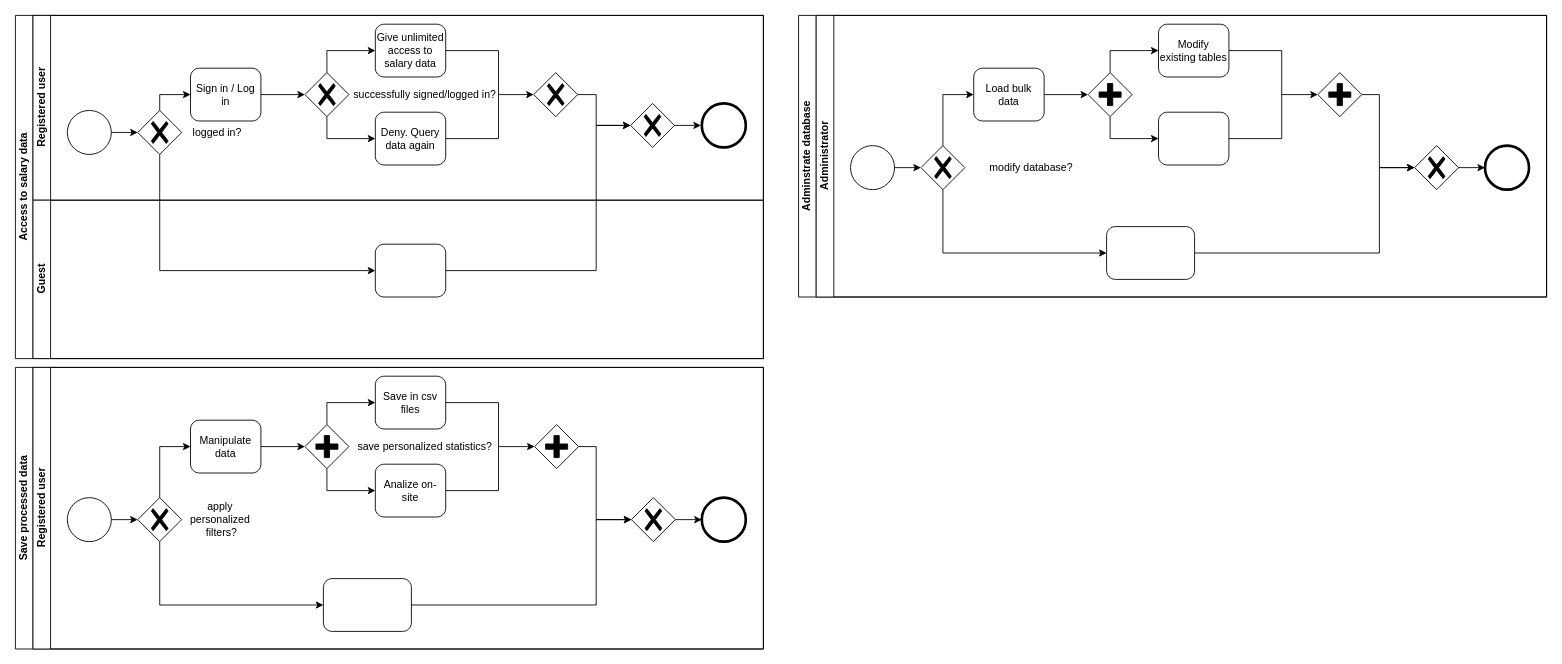
Image size: 1562x664. Some labels were removed from this diagram. The shapes that lost their labels are listed below. From the top down, each one's centre as x and y in pixels, then its label:
(x=1193, y=138): Create views
(x=410, y=270): Browse as guest. Limited access to salary data
(x=1150, y=252): Create standard indexes for guests
(x=367, y=604): Browse through predeterminated filters
